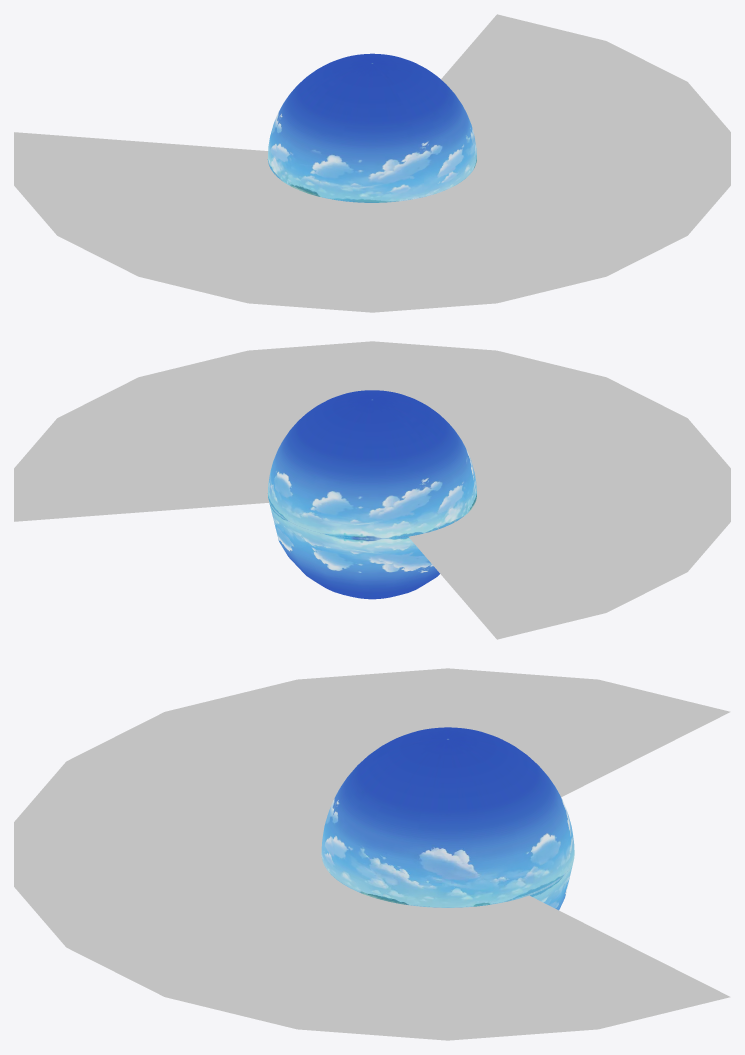
File: track.glb
3 views of the same model, one above another, from view 1: azimuth 30°, elevation 25°; view 2: azimuth 150°, elevation 25°; view 3: azimuth 270°, elevation 25° (orthographic). The views are drawn at different scales.
Parts seen in each view (by area): view 1: E_Renocity_KKL_sea_01|lm1, sky:Skybox_Common; view 2: E_Renocity_KKL_sea_01|lm1, sky:Skybox_Common; view 3: E_Renocity_KKL_sea_01|lm1, sky:Skybox_Common.
Boxes of the visible parts, bbox=[...] form: E_Renocity_KKL_sea_01|lm1: bbox=[14, 14, 730, 312]; sky:Skybox_Common: bbox=[267, 53, 476, 202]; E_Renocity_KKL_sea_01|lm1: bbox=[14, 341, 730, 639]; sky:Skybox_Common: bbox=[267, 390, 476, 599]; E_Renocity_KKL_sea_01|lm1: bbox=[14, 668, 730, 1040]; sky:Skybox_Common: bbox=[321, 727, 574, 910].
Bounding box in the file's own units: 160000 × 46000 × 130214.
Materials: 40 (35 with a texture image).
